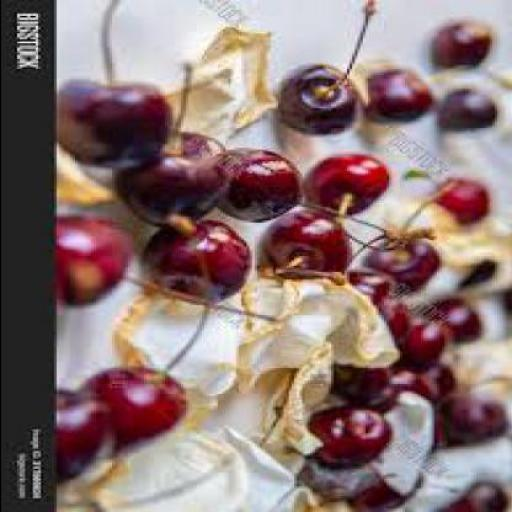biodegradable: (66, 398, 261, 510), (238, 278, 401, 384), (124, 290, 254, 396), (282, 0, 380, 134), (166, 26, 280, 138), (122, 126, 234, 225), (63, 76, 172, 168), (87, 364, 190, 453), (145, 213, 251, 299), (61, 215, 142, 307), (269, 341, 335, 453), (222, 146, 312, 218), (261, 218, 354, 280), (58, 388, 116, 482), (312, 154, 390, 216), (372, 228, 446, 291), (56, 142, 120, 205), (369, 67, 436, 123), (68, 457, 135, 510), (443, 392, 510, 445), (436, 18, 494, 67), (335, 359, 401, 402), (438, 175, 494, 221), (398, 313, 446, 366), (440, 87, 498, 130), (446, 477, 510, 510), (354, 264, 400, 307), (420, 362, 456, 404), (391, 366, 430, 400), (382, 298, 409, 340)
